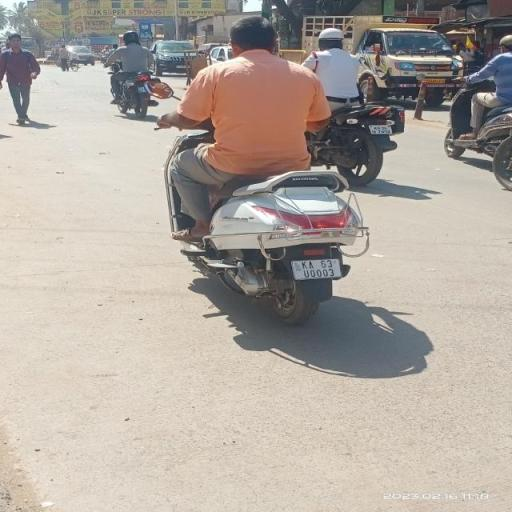bike: (146, 12, 384, 326)
numberplate: (291, 258, 343, 280)
withouthelmet: (229, 17, 277, 53)
